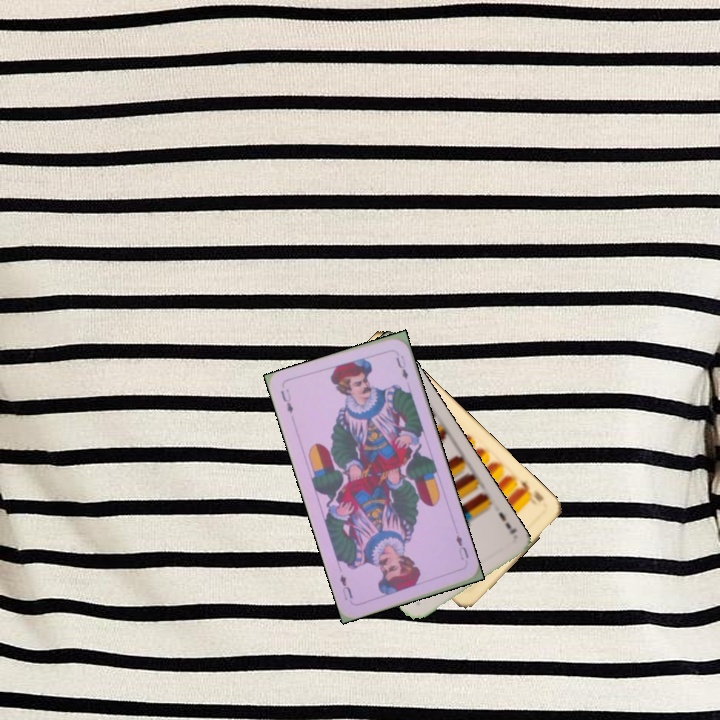E10: (513, 476, 546, 504)
E7: (495, 508, 519, 536)
EU: (276, 385, 296, 416), (452, 531, 471, 562)
